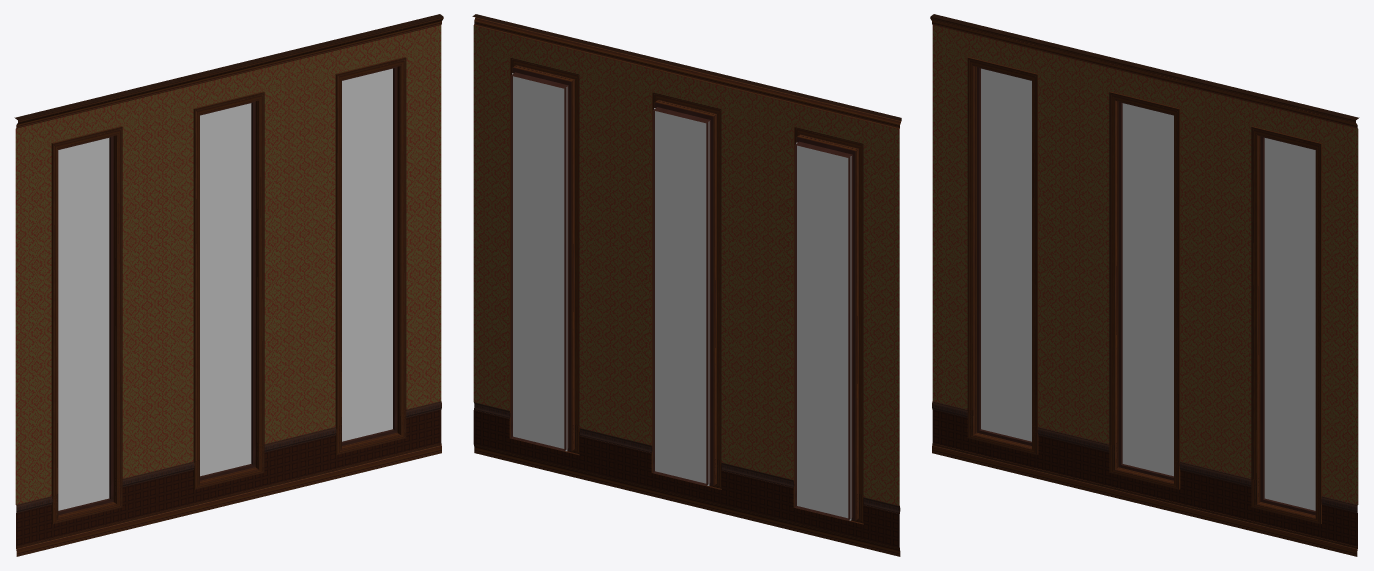
File: Tallwindows3.fbx
3 views of the same model, side by side, from view 1: azimuth 30°, elevation 25°; view 2: azimuth 150°, elevation 25°; view 3: azimuth 330°, elevation 25° (orthographic).
Parts seen in each view (by area): view 1: WallSectionDiningRoom_Med.003; view 2: WallSectionDiningRoom_Med.003; view 3: WallSectionDiningRoom_Med.003.
Boxes of the visible parts, x1,y1,x2,y2 form: WallSectionDiningRoom_Med.003: (14, 14, 443, 556); WallSectionDiningRoom_Med.003: (472, 14, 901, 556); WallSectionDiningRoom_Med.003: (930, 14, 1359, 556).
Size of the model in its own units: 1108 by 1088 by 41.47.
